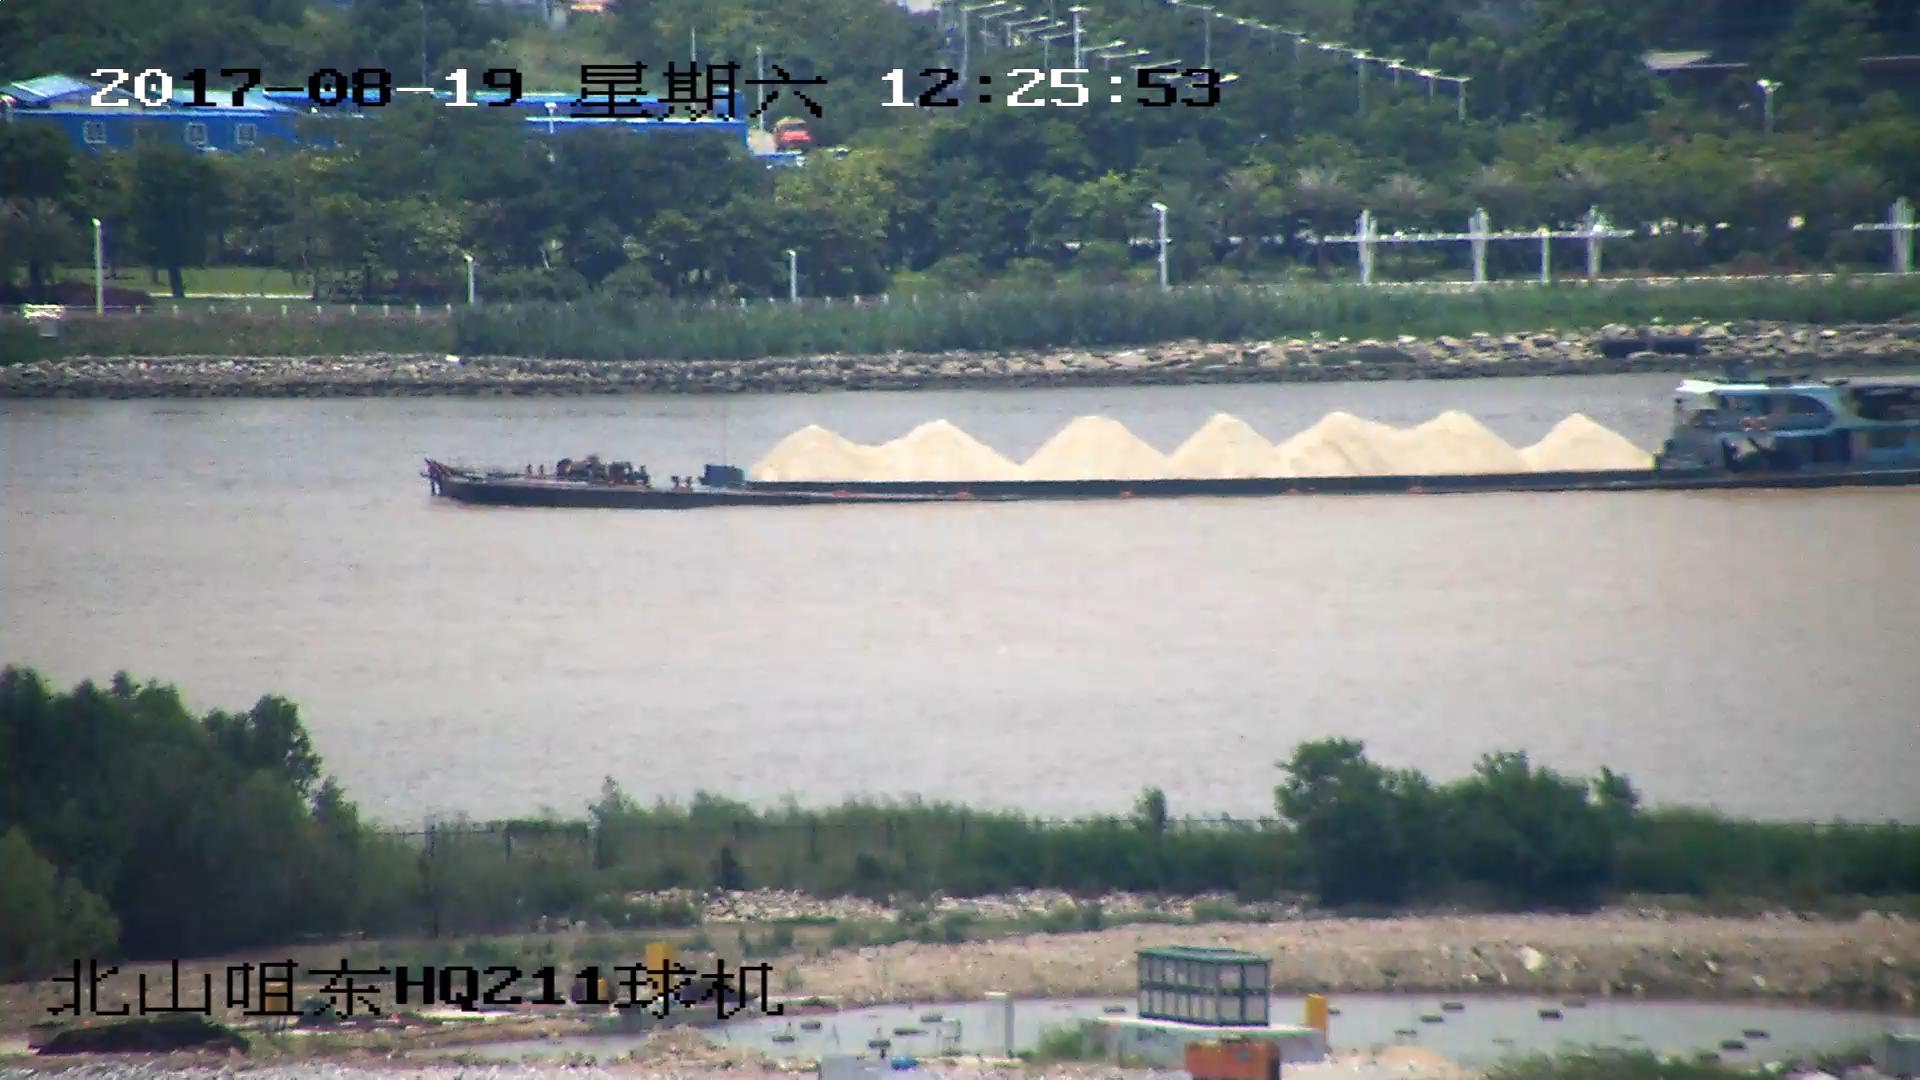ore carrier: (424, 380, 1920, 510)
